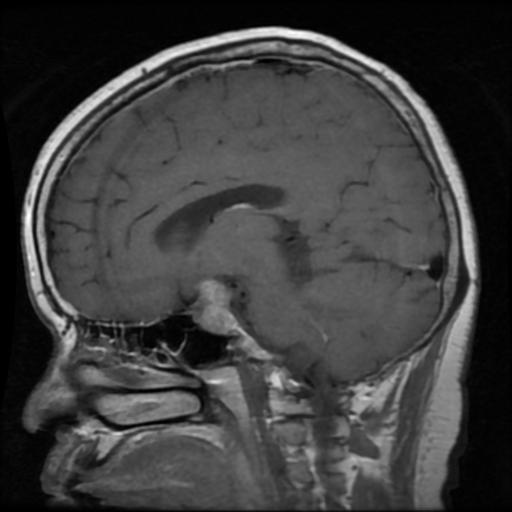Pituirity_tumour: (196, 280, 237, 332)
